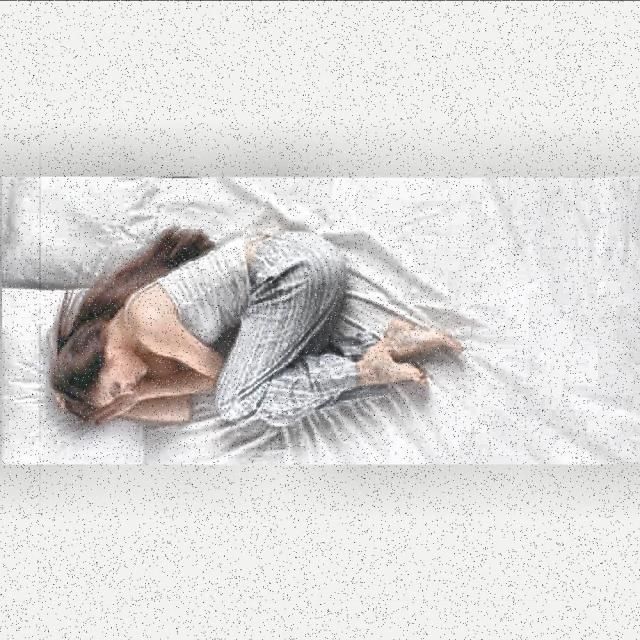Not_Supine: (51, 228, 462, 429)
